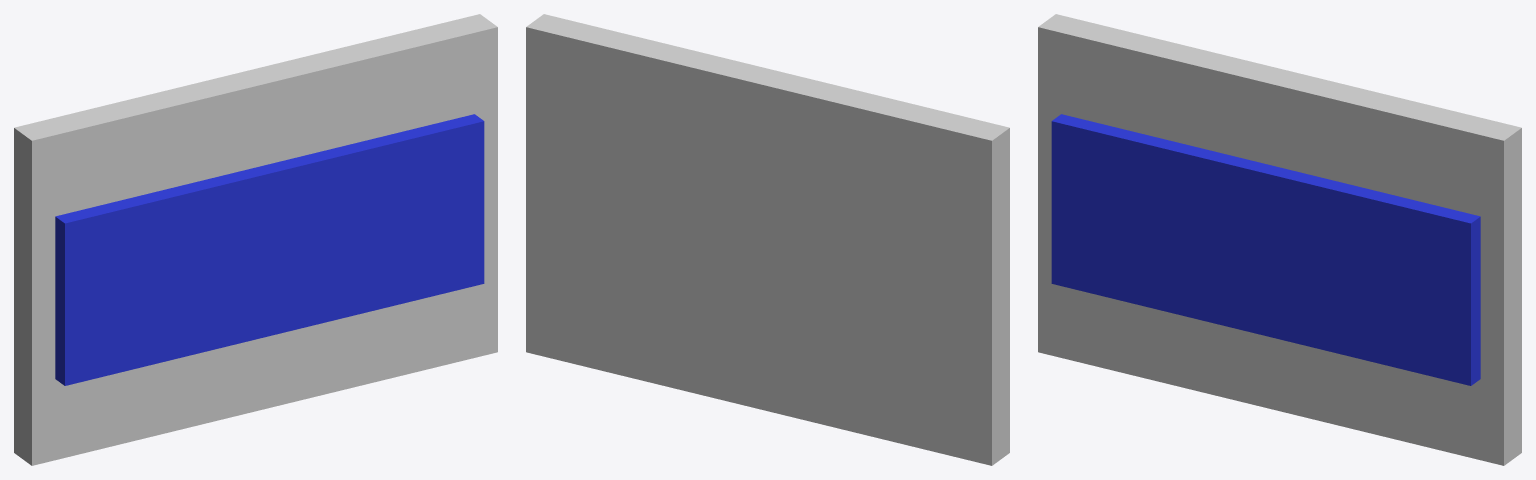
File: Box with buttons.fbx
The picture shows the model from 3 angles, left to right: view 1: azimuth 30°, elevation 25°; view 2: azimuth 150°, elevation 25°; view 3: azimuth 330°, elevation 25°; orthographic projection.
Visible parts, largest first — view 1: Куб; view 2: Куб; view 3: Куб.
Boxes of the visible parts, x1,y1,x2,y2 form: Куб: [14, 14, 497, 465]; Куб: [526, 14, 1009, 465]; Куб: [1038, 14, 1521, 465].
Size of the model in its own units: 60 by 40 by 6.16.
